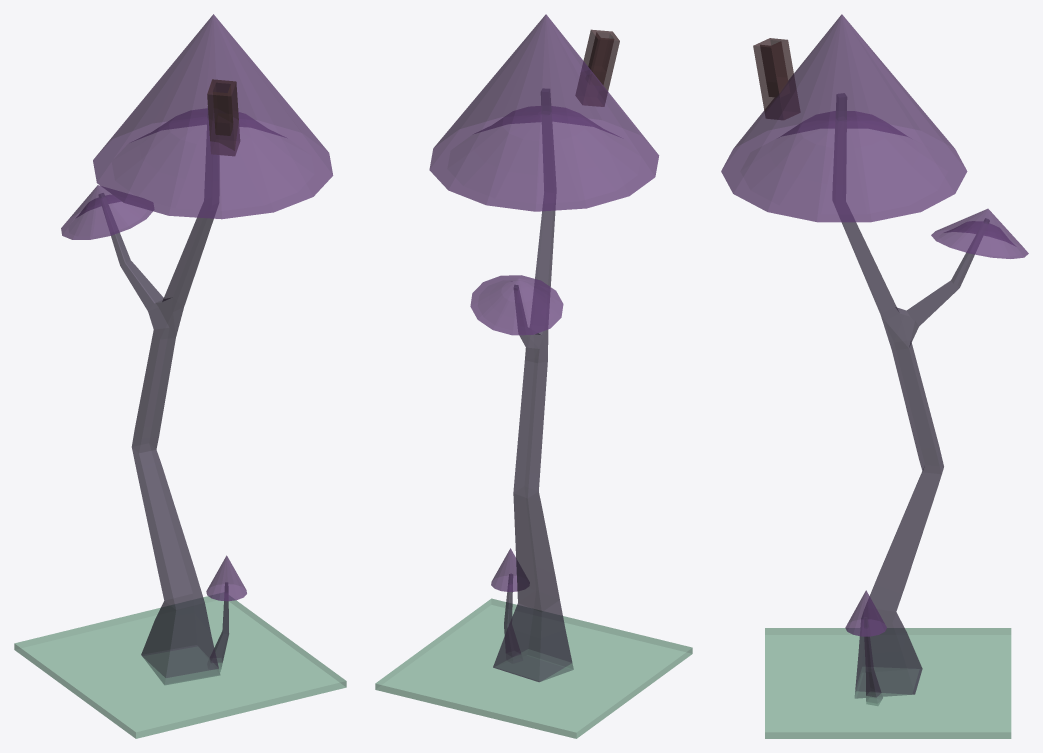
The model's file is Tower_ShroomIndicator.fbx.
3 views of the same model, side by side, from view 1: azimuth 30°, elevation 25°; view 2: azimuth 150°, elevation 25°; view 3: azimuth 270°, elevation 25° (orthographic). The views are drawn at different scales.
Visible parts, largest first — view 1: Cone, Cube.002, Shroom_Tower, Cone.003, Cylinder, Cone.002, Cube.001; view 2: Cone, Cube.002, Shroom_Tower, Cone.003, Cylinder, Cone.002, Cube.001; view 3: Cone, Cube.002, Shroom_Tower, Cylinder, Cone.003, Cone.002, Cube.001.
Part boxes in pixels (bbox=[...]): Cone: bbox=[93, 14, 333, 219]; Cube.002: bbox=[14, 593, 346, 738]; Shroom_Tower: bbox=[98, 110, 219, 684]; Cone.003: bbox=[61, 185, 153, 239]; Cylinder: bbox=[207, 79, 239, 155]; Cone.002: bbox=[206, 555, 246, 601]; Cube.001: bbox=[208, 582, 229, 671]; Cone: bbox=[429, 14, 659, 211]; Cube.002: bbox=[375, 598, 692, 738]; Shroom_Tower: bbox=[493, 88, 573, 682]; Cone.003: bbox=[470, 275, 563, 335]; Cylinder: bbox=[575, 29, 619, 106]; Cone.002: bbox=[491, 548, 529, 591]; Cube.001: bbox=[504, 573, 522, 659]; Cone: bbox=[721, 14, 967, 222]; Cube.002: bbox=[765, 628, 1011, 738]; Shroom_Tower: bbox=[833, 93, 989, 698]; Cylinder: bbox=[753, 38, 800, 119]; Cone.003: bbox=[931, 208, 1028, 258]; Cone.002: bbox=[845, 590, 886, 636]; Cube.001: bbox=[863, 617, 882, 705].
Bounding box in the file's own units: 208 × 610 × 250.
